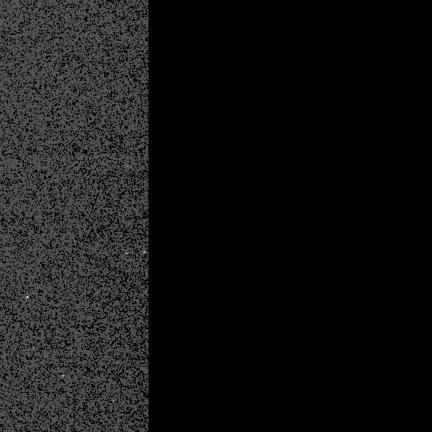blob: (26, 296, 29, 299)
